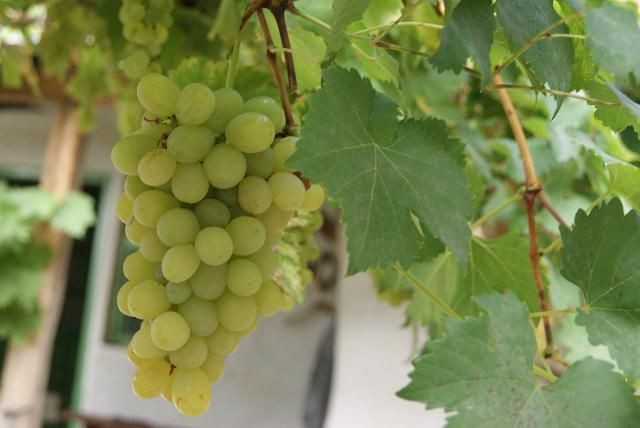grapes: (111, 74, 325, 416)
